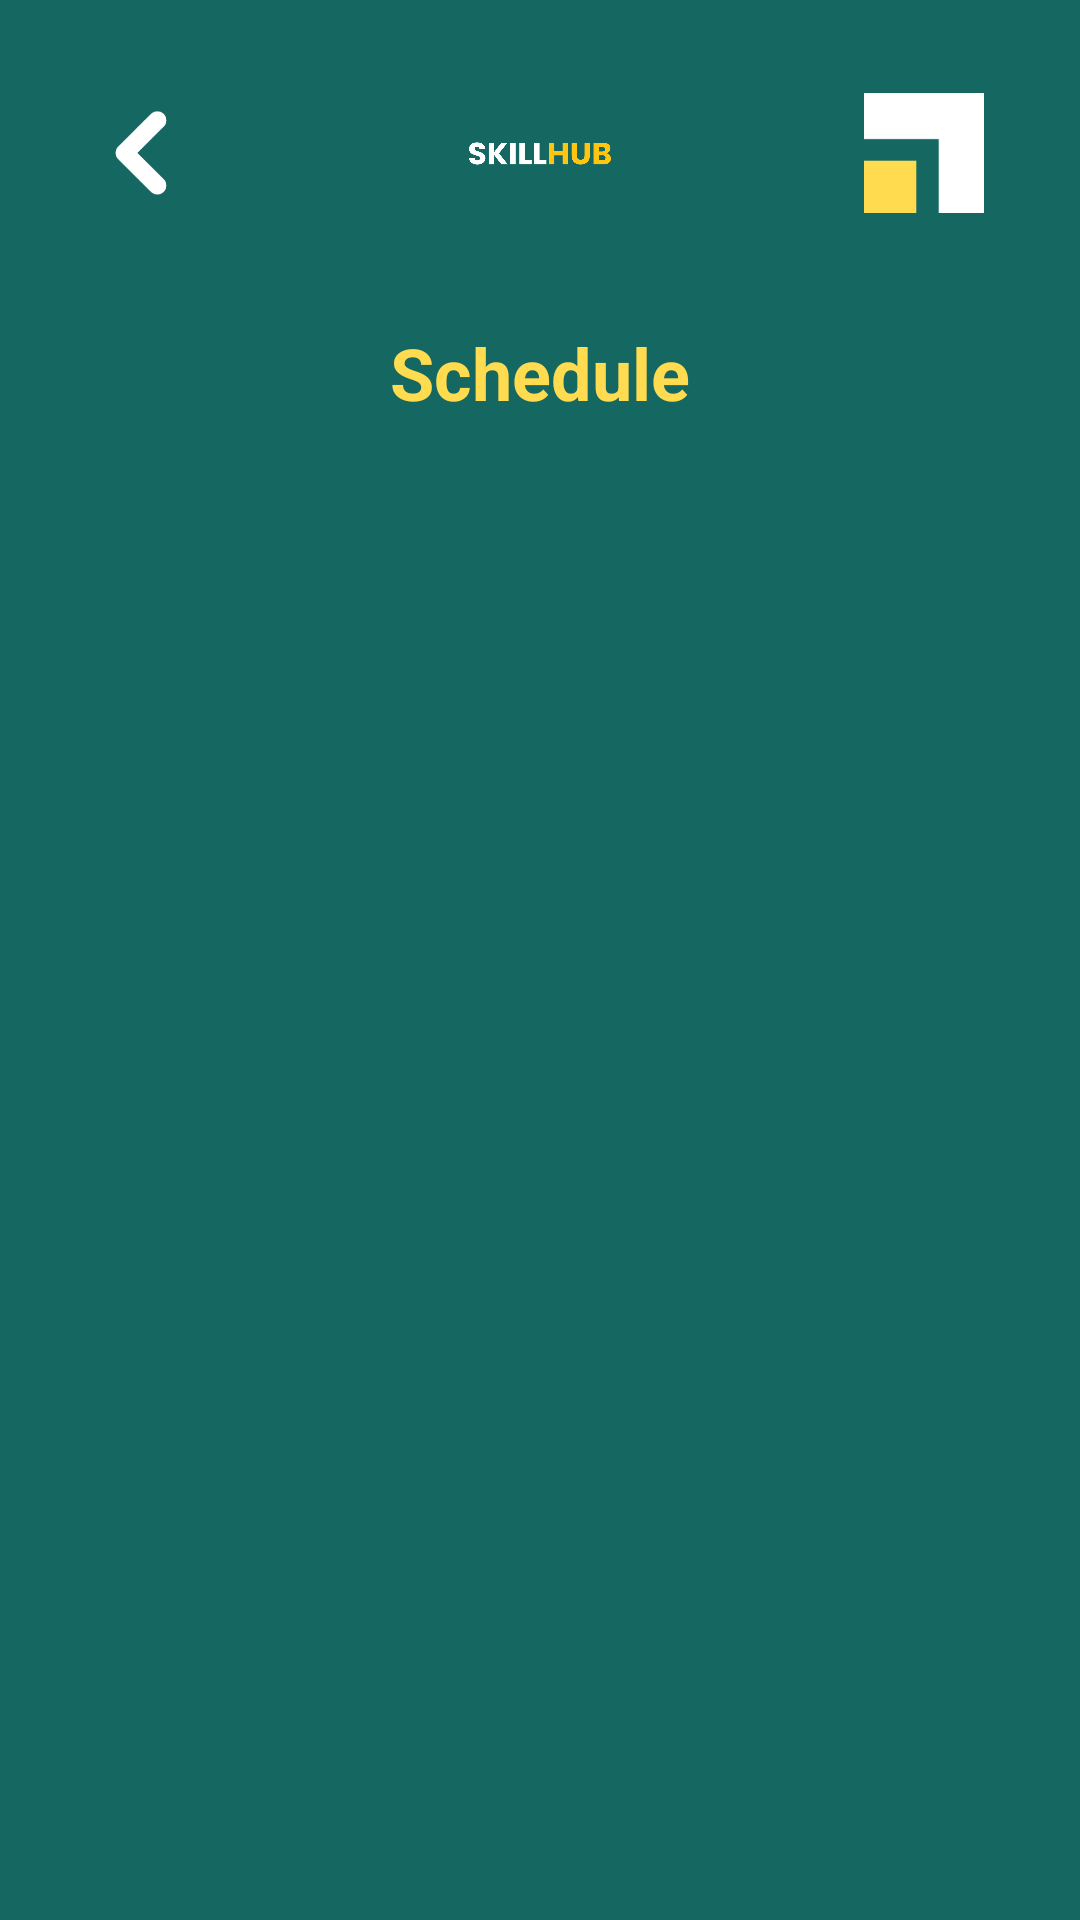

Named icons in this screenshot (1080x1920) and their bounding boxes, (x1, y1, x2, y2):
back: (115, 111, 167, 195)
